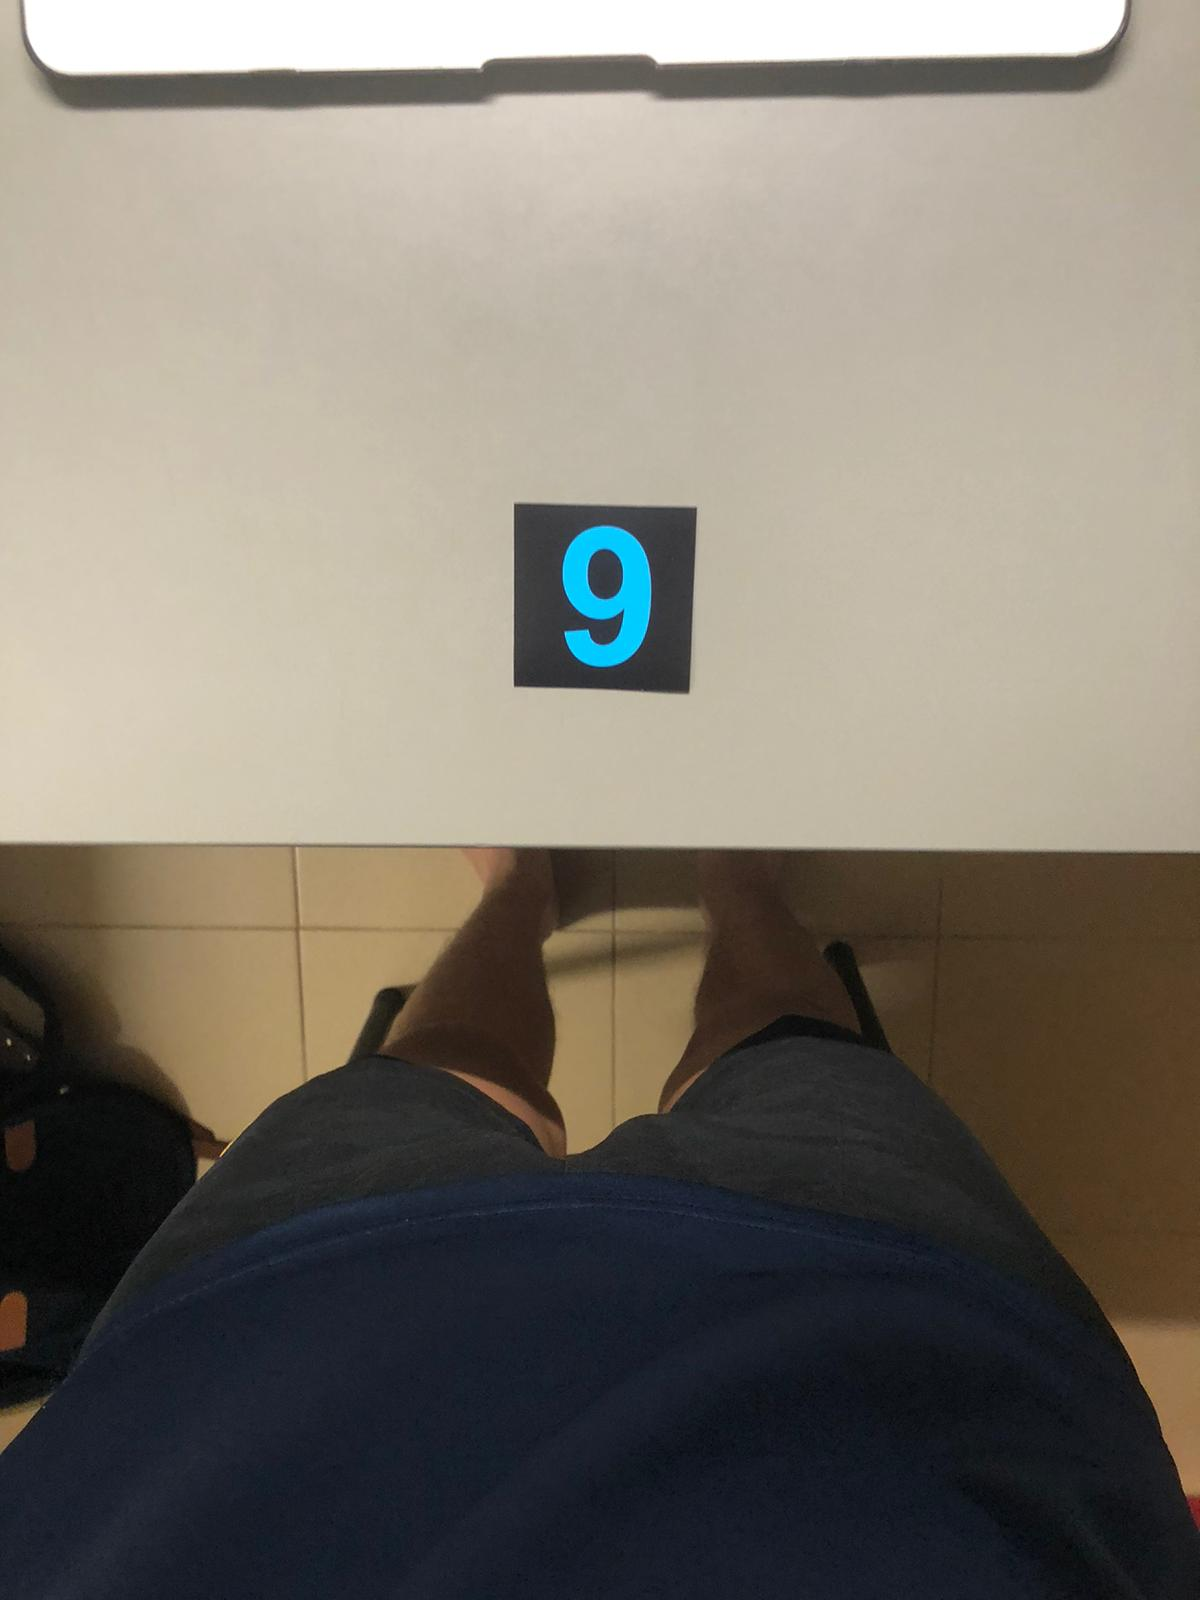Number 9: (528, 498, 687, 690)
